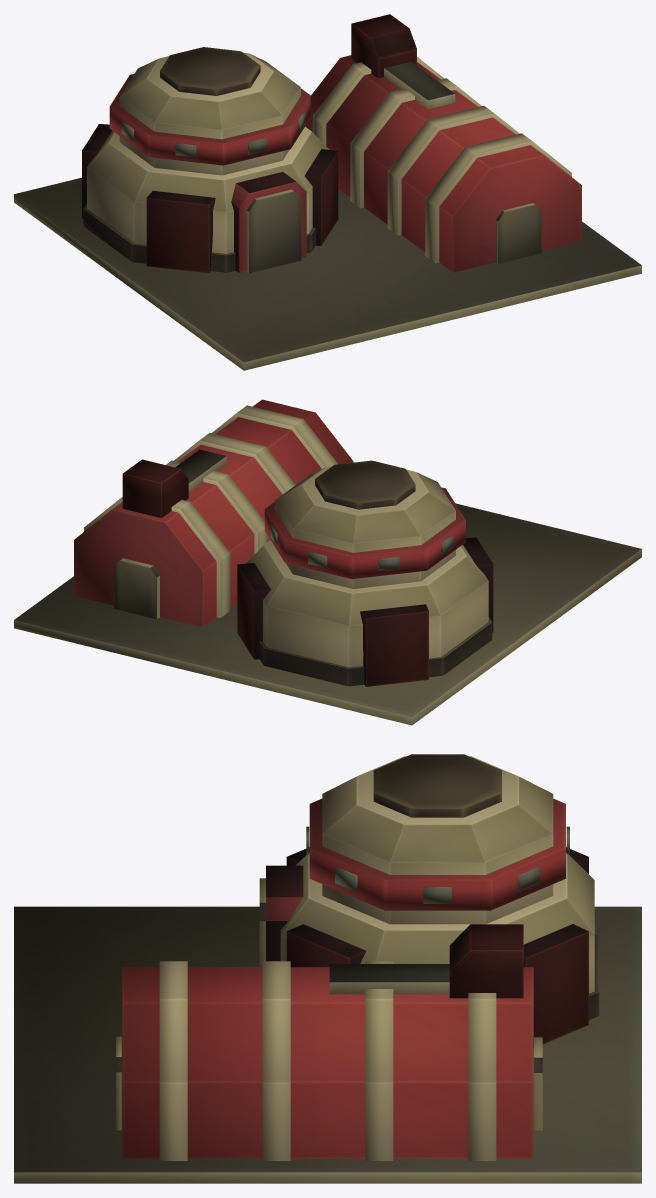
The model's file is barracks.fbx.
The picture shows the model from 3 angles, top to bottom: view 1: azimuth 30°, elevation 25°; view 2: azimuth 150°, elevation 25°; view 3: azimuth 270°, elevation 25°; orthographic projection. The views are drawn at different scales.
Visible parts, largest first — view 1: struct_Barracks_A; view 2: struct_Barracks_A; view 3: struct_Barracks_A.
Part boxes in pixels (x1=…): struct_Barracks_A: x1=14, y1=14, x2=641, y2=370; struct_Barracks_A: x1=14, y1=399, x2=641, y2=725; struct_Barracks_A: x1=14, y1=754, x2=641, y2=1183.
Bounding box in the file's own units: 1000 × 1000 × 382.
